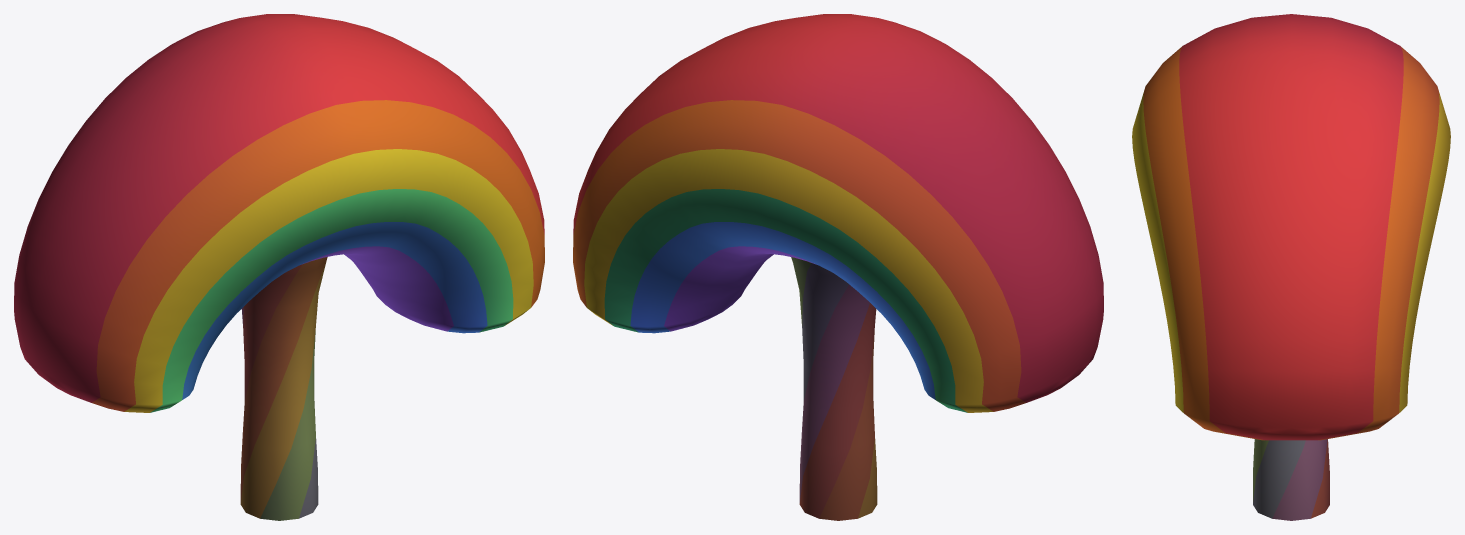
The model's file is Prismwood_Tree_Remake_ThinRows8.glb.
3 renders of one model, left to right at view 1: azimuth 30°, elevation 25°; view 2: azimuth 150°, elevation 25°; view 3: azimuth 270°, elevation 25°, orthographic.
Visible parts, largest first — view 1: Prismwood_Remake; view 2: Prismwood_Remake; view 3: Prismwood_Remake.
Part boxes in pixels (x1=…): Prismwood_Remake: x1=14, y1=14, x2=544, y2=520; Prismwood_Remake: x1=573, y1=14, x2=1103, y2=520; Prismwood_Remake: x1=1132, y1=14, x2=1450, y2=520.
Size of the model in its own units: 11.65 by 10.71 by 6.6.
